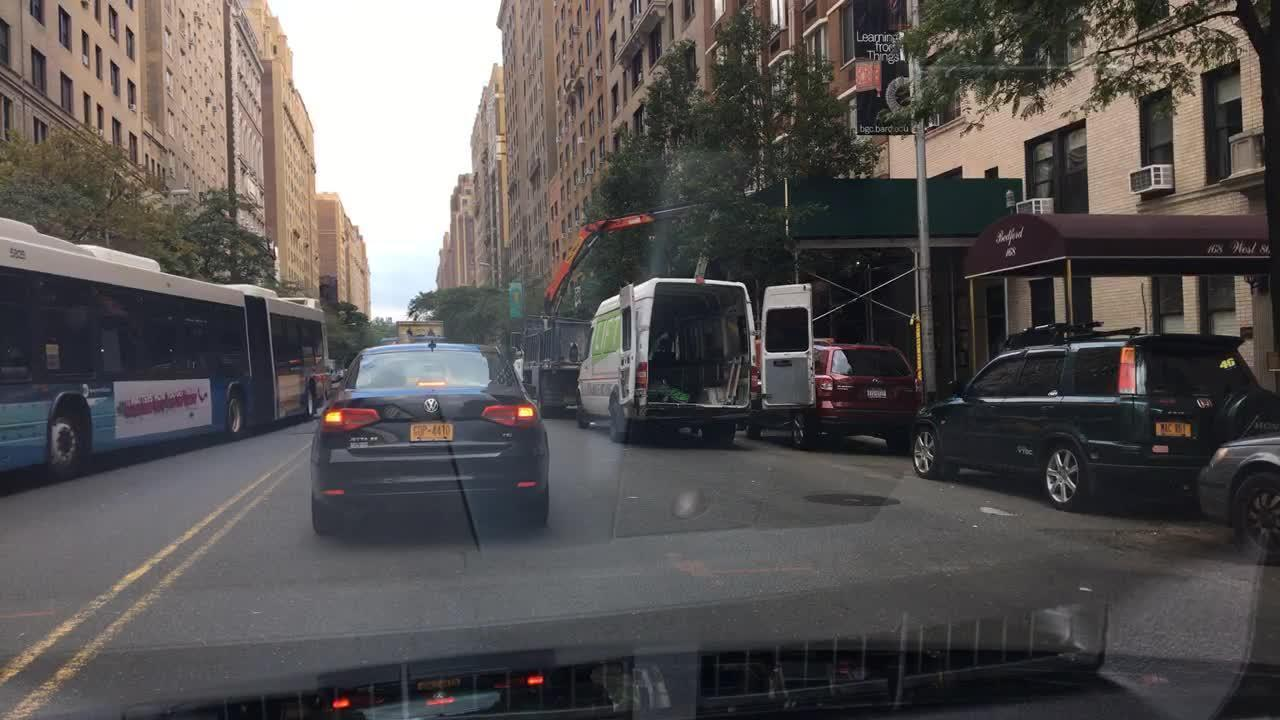Volkswagen: (419, 392, 442, 421)
